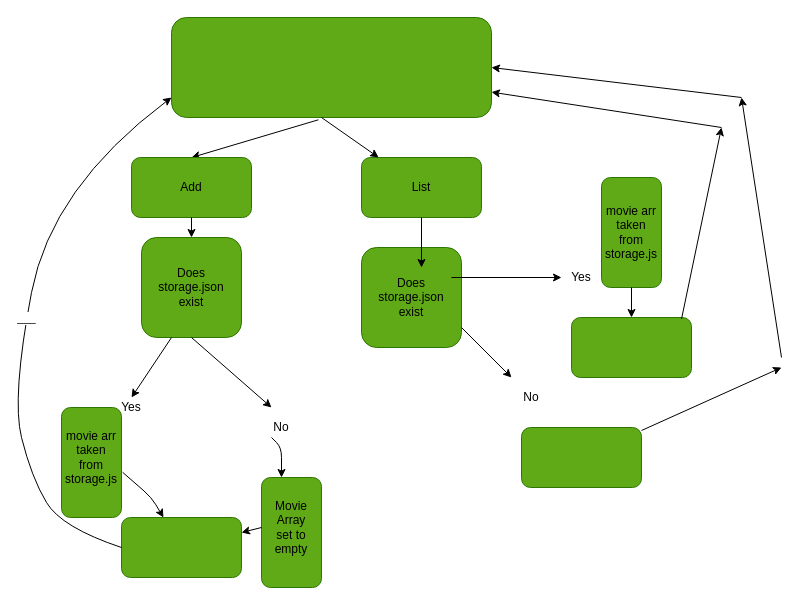
Image size: 807x605. Some labels were removed from this diagram. Here are the shapes that lost their labels. From the top down, the centre of each, then its label:
the point at 331,67: Terminal - command type
the point at 631,347: listMovies()
the point at 581,457: message "please add some data to list!"
the point at 181,547: addMovie()
